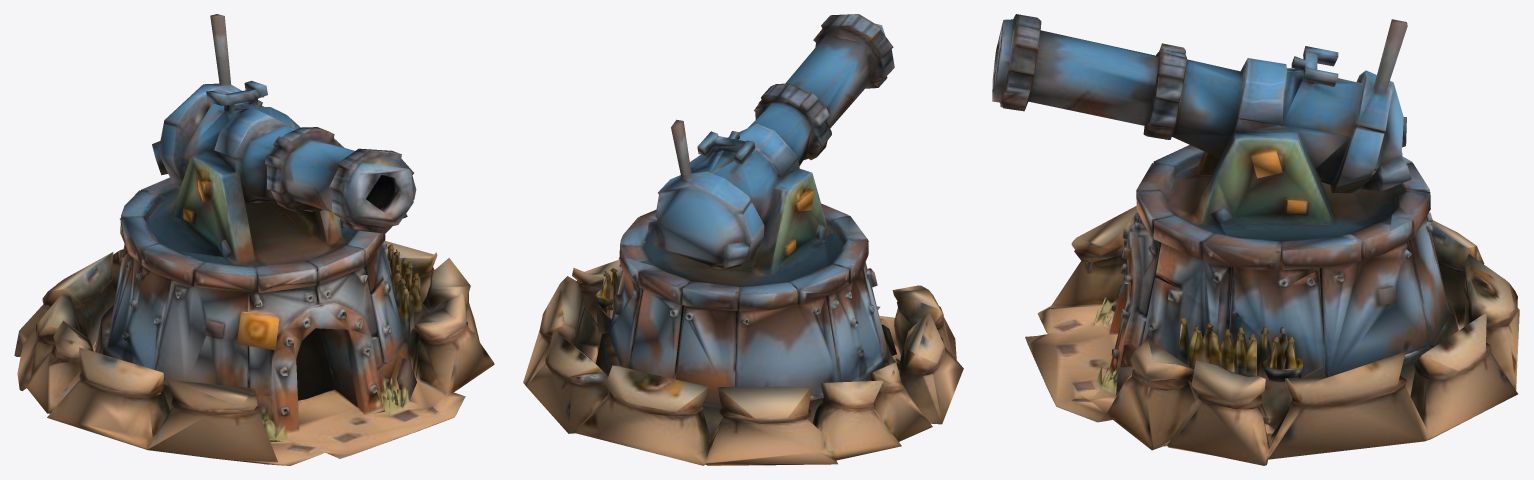
File: paota-2.glb
The picture shows the model from 3 angles, left to right: view 1: azimuth 30°, elevation 25°; view 2: azimuth 150°, elevation 25°; view 3: azimuth 270°, elevation 25°; orthographic projection. The views are drawn at different scales.
Visible parts, largest first — view 1: node_0; view 2: node_0; view 3: node_0.
Part boxes in pixels (<box>): node_0: <box>14,14,494,465</box>; node_0: <box>523,14,963,465</box>; node_0: <box>992,14,1519,465</box>.
Bounding box in the file's own units: 0.9669 × 0.6777 × 0.9478.
1 material, 1 textured.
